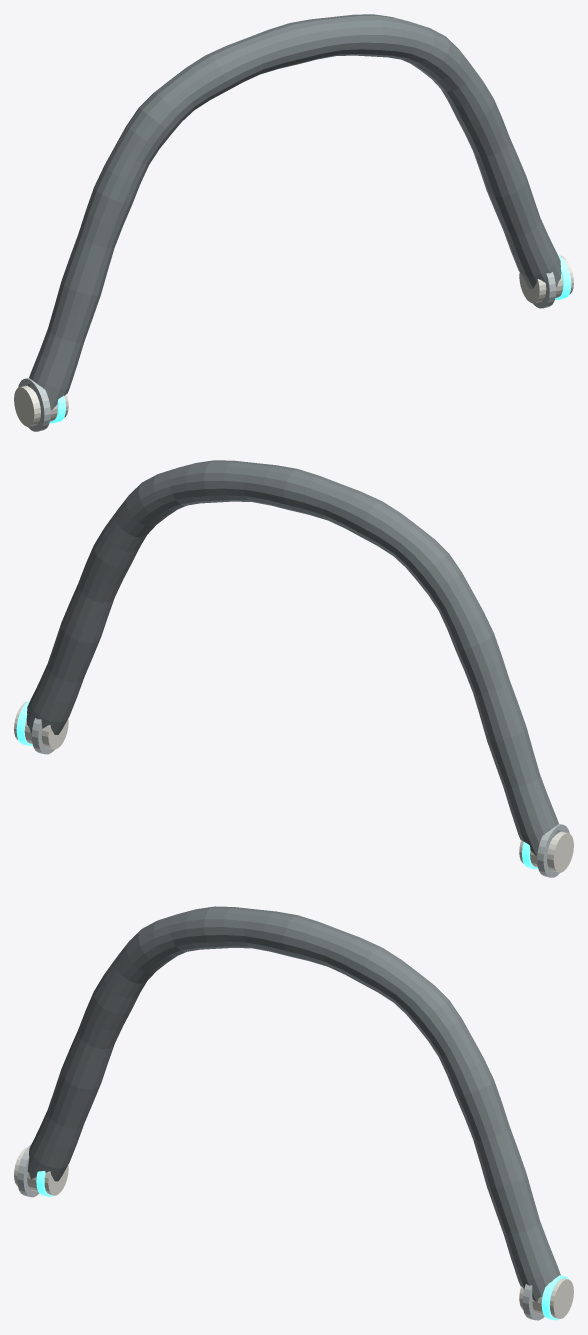
Rendered from s7-i03-hose-soft-arch-1m.glb.
3 renders of one model, top to bottom at view 1: azimuth 30°, elevation 25°; view 2: azimuth 150°, elevation 25°; view 3: azimuth 330°, elevation 25°, orthographic.
Parts seen in each view (by area): view 1: 000_actual_curved_hose_swept_3d, 001_end_0_sealing_socket, 004_end_1_sealing_socket, 003_end_0_locking_collar; view 2: 000_actual_curved_hose_swept_3d, 001_end_0_sealing_socket, 004_end_1_sealing_socket, 003_end_0_locking_collar; view 3: 000_actual_curved_hose_swept_3d, 004_end_1_sealing_socket, 001_end_0_sealing_socket.
Part boxes in pixels (bbox=[...]): 000_actual_curved_hose_swept_3d: bbox=[26, 14, 561, 410]; 001_end_0_sealing_socket: bbox=[14, 385, 68, 426]; 004_end_1_sealing_socket: bbox=[519, 255, 573, 303]; 003_end_0_locking_collar: bbox=[18, 378, 50, 431]; 000_actual_curved_hose_swept_3d: bbox=[26, 460, 561, 856]; 001_end_0_sealing_socket: bbox=[519, 831, 573, 872]; 004_end_1_sealing_socket: bbox=[14, 701, 68, 749]; 003_end_0_locking_collar: bbox=[537, 824, 569, 877]; 000_actual_curved_hose_swept_3d: bbox=[27, 906, 560, 1302]; 004_end_1_sealing_socket: bbox=[519, 1278, 573, 1318]; 001_end_0_sealing_socket: bbox=[14, 1148, 68, 1195].
Size of the model in its own units: 1.07 by 0.6456 by 0.0935.
